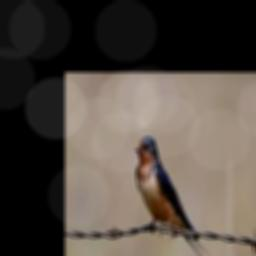Swallow: (133, 136, 210, 256)
